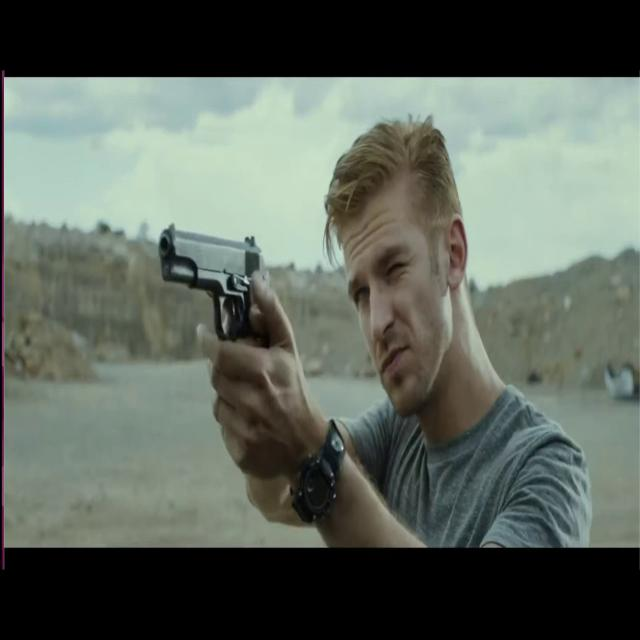weapons: (146, 210, 284, 366)
